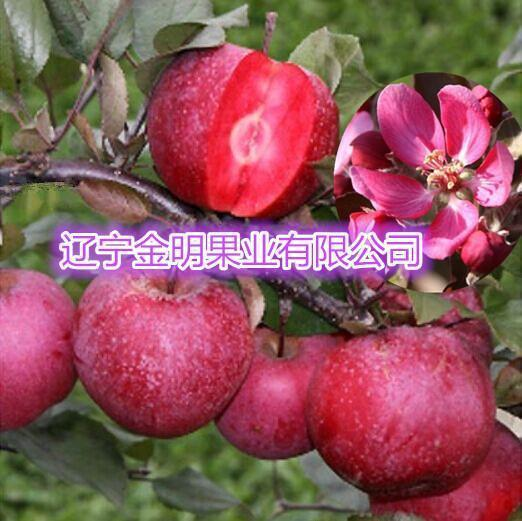apple: (145, 40, 341, 218), (307, 327, 496, 501), (76, 268, 250, 439), (217, 306, 343, 459), (1, 270, 76, 434)
